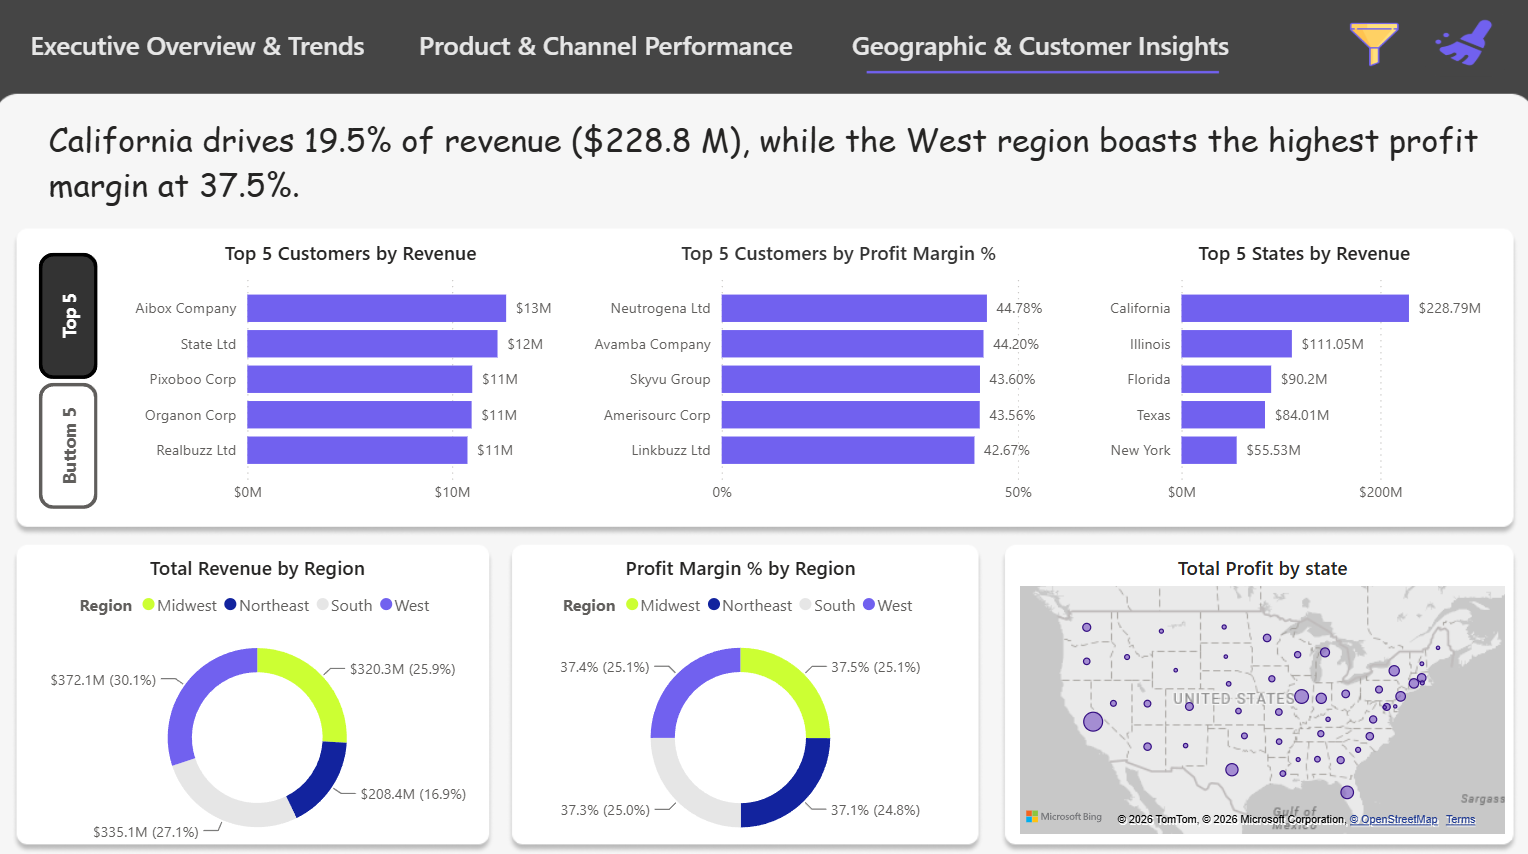

This screenshot's page, from the dashboard's own definition file:
{"tool":"powerbi","page":{"name":"Geographic & Customer Insights","canvas":[1280,720],"ordinal":2},"visuals":[{"type":"barChart","title":"Top 5 States by Revenue","fields":{"Category":["Sales_data.state_name"],"Y":["Measures_.Total Revenue"]},"box":[917,203.4,344.1,228.8],"z":0,"group":"g2"},{"type":"actionButton","box":[37,215,49,105],"z":0,"group":"g1"},{"type":"donutChart","title":"Total Revenue by Region","fields":{"Category":["Sales_data.us_region"],"Y":["Measures_.Total Revenue"]},"box":[20.3,466.1,394.9,254.2],"z":0},{"type":"barChart","title":"Top 5 Customers by Profit Margin %","fields":{"Category":["Sales_data.customer_name"],"Y":["Measures_.Profit Margin %"]},"box":[486.5,203.4,430.5,228.8],"z":1000,"group":"g2"},{"type":"actionButton","box":[36.7,323.3,49,105],"z":1000,"group":"g1"},{"type":"donutChart","title":"Profit Margin % by Region","fields":{"Category":["Sales_data.us_region"],"Y":["Measures_.Profit Margin %"]},"box":[415.3,466.1,408.5,254.2],"z":1000},{"type":"actionButton","box":[337.2,14.1,342.3,55.1],"z":2000},{"type":"barChart","title":"Top 5 Customers by Revenue","fields":{"Category":["Sales_data.customer_name"],"Y":["Measures_.Total Revenue"]},"box":[105.1,203.4,381.4,228.8],"z":2000,"group":"g2"},{"type":"actionButton","box":[9,14.1,317.9,55.1],"z":3000},{"type":"actionButton","box":[702.6,14.1,333.3,55.1],"z":4000},{"type":"group","id":"g1","title":"top 5 button","box":[36.7,215,48.3,213.3],"z":6000},{"type":"map","fields":{"Category":["Sales_data.state"],"Size":["Measures_.Total Profit"]},"box":[846.9,465.7,413.8,237.7],"z":7000},{"type":"group","id":"g2","title":"top 5","box":[105.1,203.4,1155.9,228.8],"z":9000},{"type":"textbox","title":"Top Text","box":[40,96.2,1222.5,120],"z":11000},{"type":"actionButton","box":[1188,14,70,55],"z":12000},{"type":"actionButton","box":[1120,21,53,42],"z":13000}]}

Visuals, with their boxes in screenshot pixels (x1, y1, x2, y2), scaled from the page's 1280x720 canvas onto the 1528x854 screenshot:
"Top 5 States by Revenue" barChart: {"x1": 1095, "y1": 241, "x2": 1505, "y2": 513}
actionButton: {"x1": 44, "y1": 255, "x2": 103, "y2": 380}
"Total Revenue by Region" donutChart: {"x1": 24, "y1": 553, "x2": 496, "y2": 853}
"Top 5 Customers by Profit Margin %" barChart: {"x1": 581, "y1": 241, "x2": 1095, "y2": 513}
actionButton: {"x1": 44, "y1": 383, "x2": 102, "y2": 508}
"Profit Margin % by Region" donutChart: {"x1": 496, "y1": 553, "x2": 983, "y2": 853}
actionButton: {"x1": 403, "y1": 17, "x2": 811, "y2": 82}
"Top 5 Customers by Revenue" barChart: {"x1": 125, "y1": 241, "x2": 581, "y2": 513}
actionButton: {"x1": 11, "y1": 17, "x2": 390, "y2": 82}
actionButton: {"x1": 839, "y1": 17, "x2": 1237, "y2": 82}
"top 5 button" group: {"x1": 44, "y1": 255, "x2": 101, "y2": 508}
map - Sales_data.state x Measures_.Total Profit: {"x1": 1011, "y1": 552, "x2": 1505, "y2": 834}
"top 5" group: {"x1": 125, "y1": 241, "x2": 1505, "y2": 513}
"Top Text" textbox: {"x1": 48, "y1": 114, "x2": 1507, "y2": 256}
actionButton: {"x1": 1418, "y1": 17, "x2": 1502, "y2": 82}
actionButton: {"x1": 1337, "y1": 25, "x2": 1400, "y2": 75}
